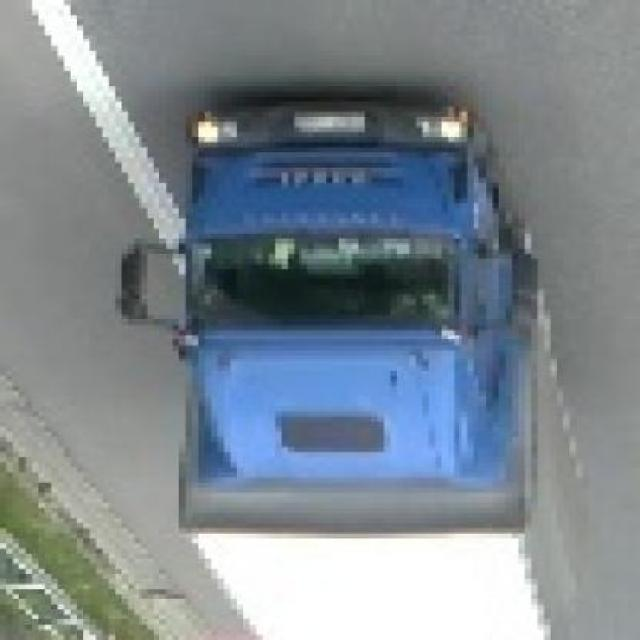truck: (123, 72, 590, 640)
